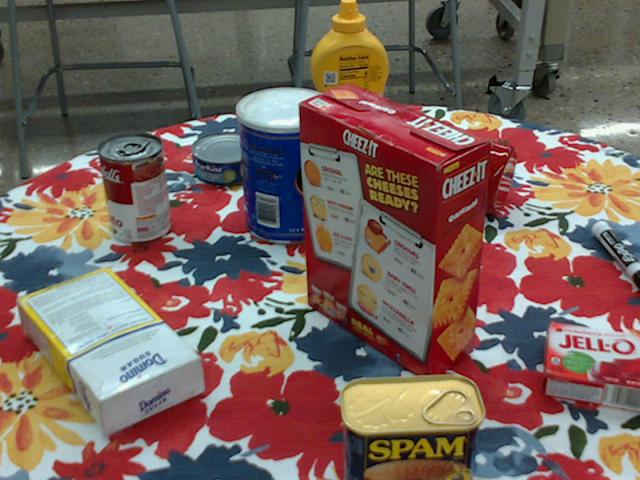cracker_box: (297, 86, 489, 384)
gelatin_box: (540, 321, 639, 409)
large_marker: (591, 219, 639, 289)
master_chef_can: (236, 87, 334, 244)
mug: (423, 124, 514, 213)
mustard_bottle: (309, 0, 388, 157)
potted_meat_can: (338, 374, 484, 479)
sugar_box: (18, 270, 203, 433)
tomato_soup_can: (98, 132, 170, 244)
tuna_fish_can: (192, 131, 263, 185)
